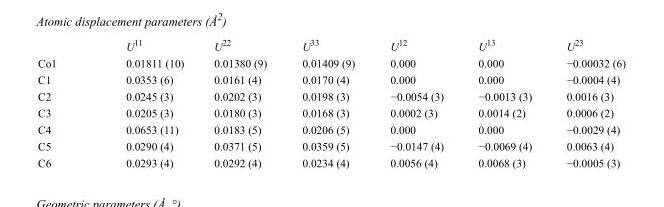table: (37, 36, 624, 168)
table column: (90, 36, 198, 168), (371, 36, 460, 168), (283, 36, 371, 168), (460, 36, 548, 168), (198, 36, 283, 168), (548, 36, 624, 168), (37, 36, 90, 168)
table column header: (37, 36, 624, 54)
table row: (37, 36, 624, 54), (37, 70, 624, 87), (37, 87, 624, 104), (37, 120, 624, 137), (37, 54, 624, 70), (37, 104, 624, 120), (37, 137, 624, 153), (37, 153, 624, 168)
